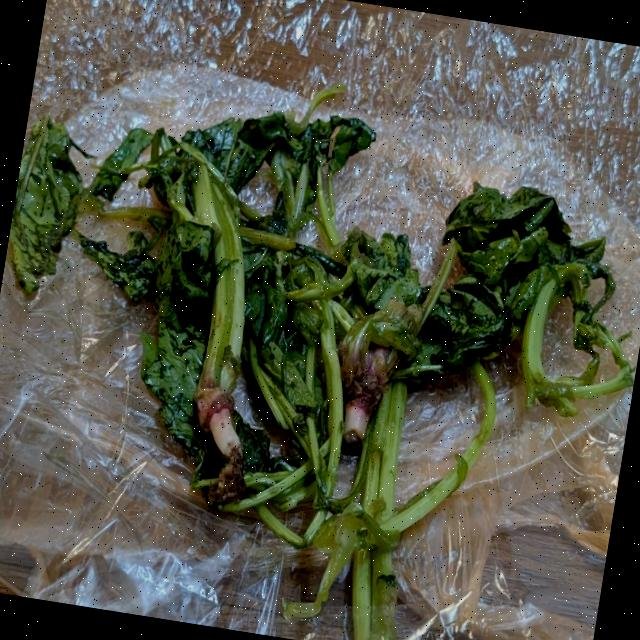rotten spinach: (0, 55, 640, 640), (83, 56, 522, 640), (161, 84, 640, 532), (0, 81, 322, 459)
